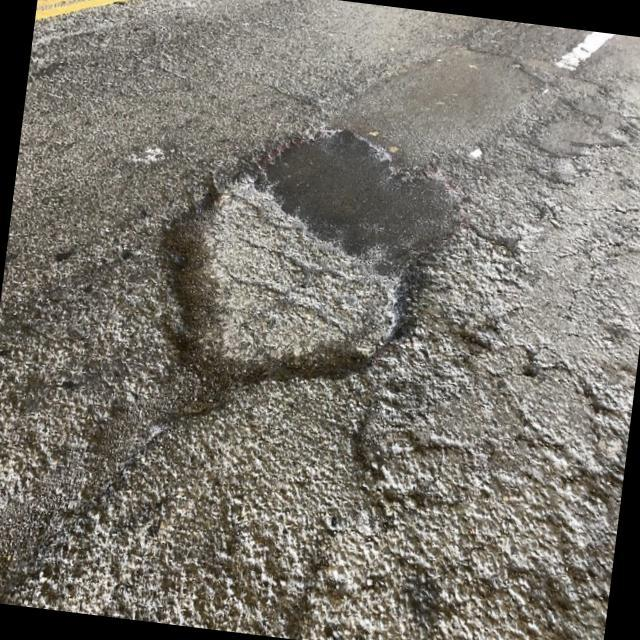Pothole: (156, 103, 462, 397)
